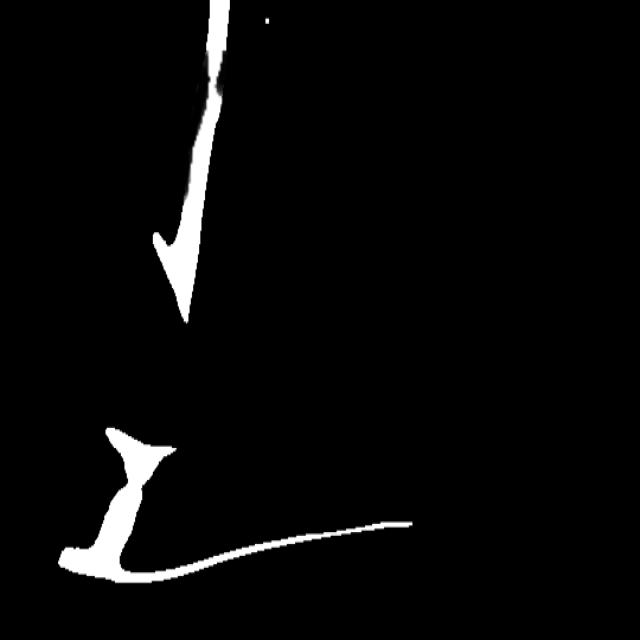sl: (199, 46, 230, 118)
